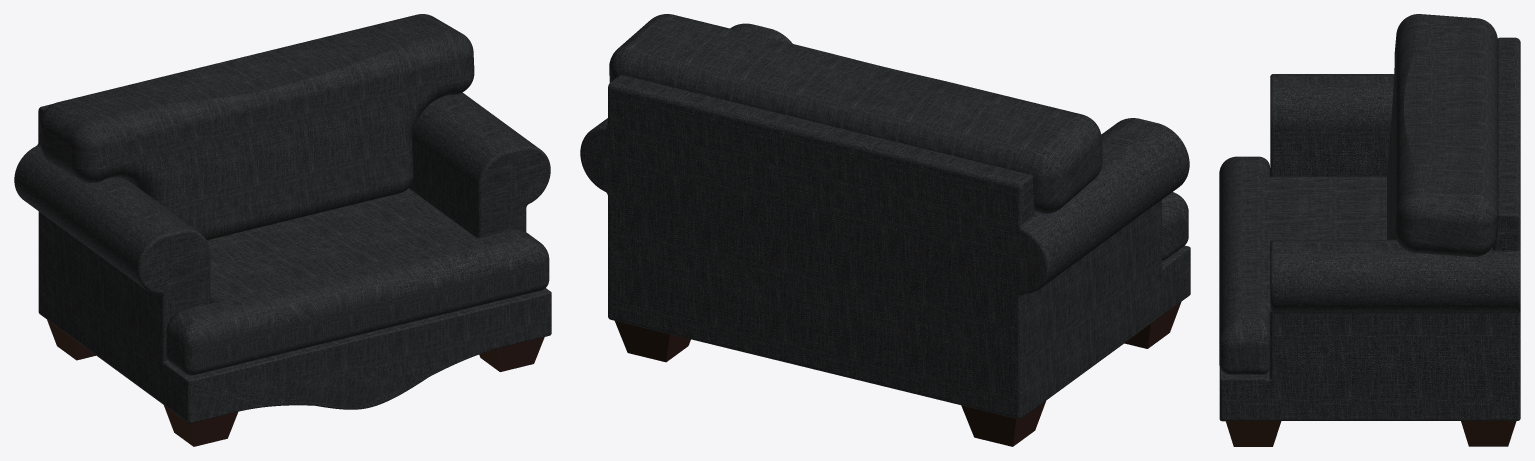
Rendered from couch2.glb.
The picture shows the model from 3 angles, left to right: view 1: azimuth 30°, elevation 25°; view 2: azimuth 150°, elevation 25°; view 3: azimuth 270°, elevation 25°; orthographic projection. The views are drawn at different scales.
Parts seen in each view (by area): view 1: CouchBase, BackCushion, BottomCushion, Legs; view 2: CouchBase, BackCushion, Legs, BottomCushion; view 3: CouchBase, BackCushion, BottomCushion, Legs.
Boxes of the visible parts, x1,y1,x2,y2 form: CouchBase: [14, 92, 551, 423]; BackCushion: [40, 14, 474, 239]; BottomCushion: [166, 188, 549, 375]; Legs: [47, 320, 544, 446]; CouchBase: [580, 23, 1190, 419]; BackCushion: [609, 14, 1102, 213]; Legs: [615, 301, 1181, 446]; BottomCushion: [1162, 192, 1188, 260]; CouchBase: [1219, 37, 1520, 421]; BackCushion: [1387, 14, 1497, 257]; BottomCushion: [1219, 156, 1386, 374]; Legs: [1226, 421, 1516, 446].
Size of the model in its own units: 4.25 by 2.57 by 2.69.
Materials: 2 (1 with a texture image).
